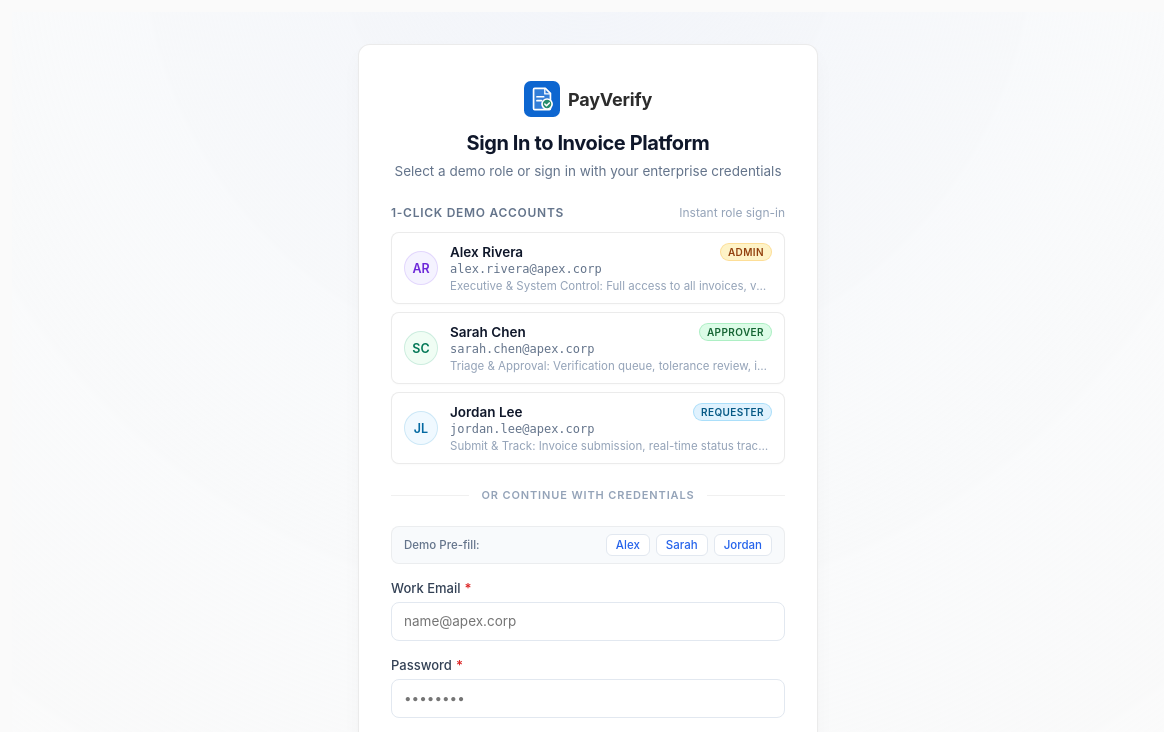
LandingPage (PayVerify Enterprise Authentication Landing) › 1-Click Persona Sign-In Section › signs in as Requester in 1-click and preserves search query parameters
Click the button with test id "quick-login-Requester".
click(588, 428)  # box [391,392,785,464]
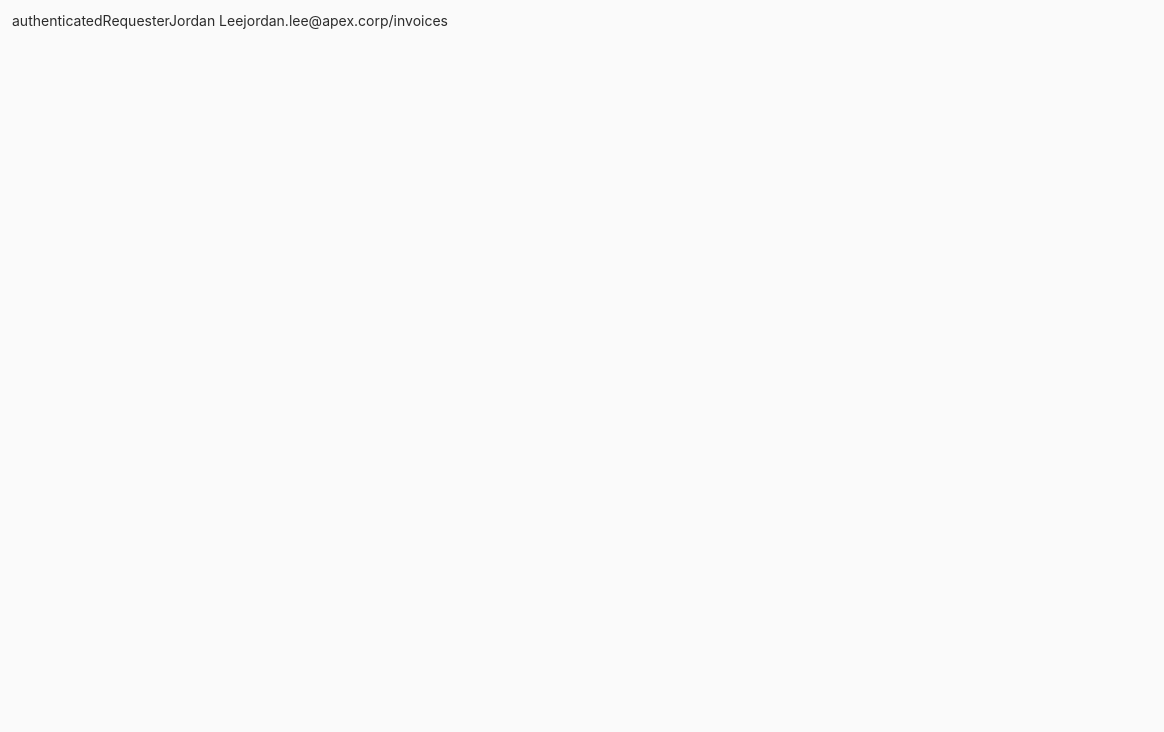
Check: the text with test id "auth-role" reads "Requester", box [103,12,169,29]
Check: the element with test id "invoices-view" is shown, box [12,12,448,29]
